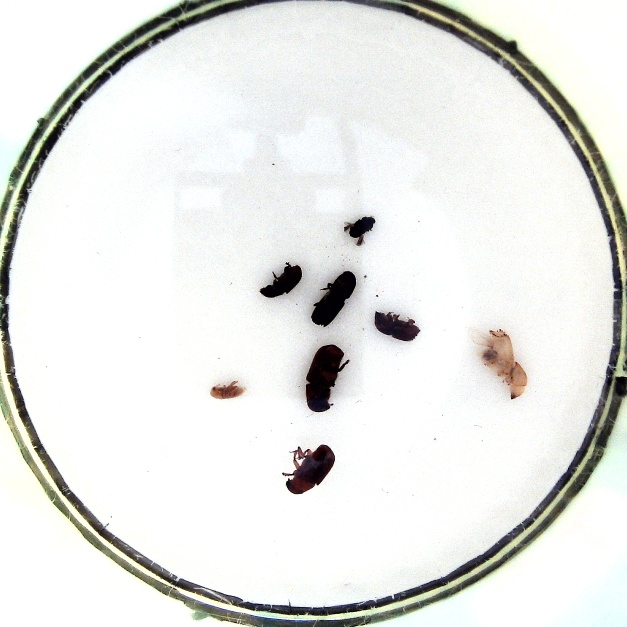acuminatus: (206, 380, 247, 401)
armandi: (257, 258, 303, 300)
boerner: (471, 327, 529, 401), (308, 269, 359, 328)
coleoptera: (342, 215, 378, 248)
leconte: (302, 341, 351, 414), (279, 441, 338, 494)
linnaeus: (371, 308, 421, 343)
